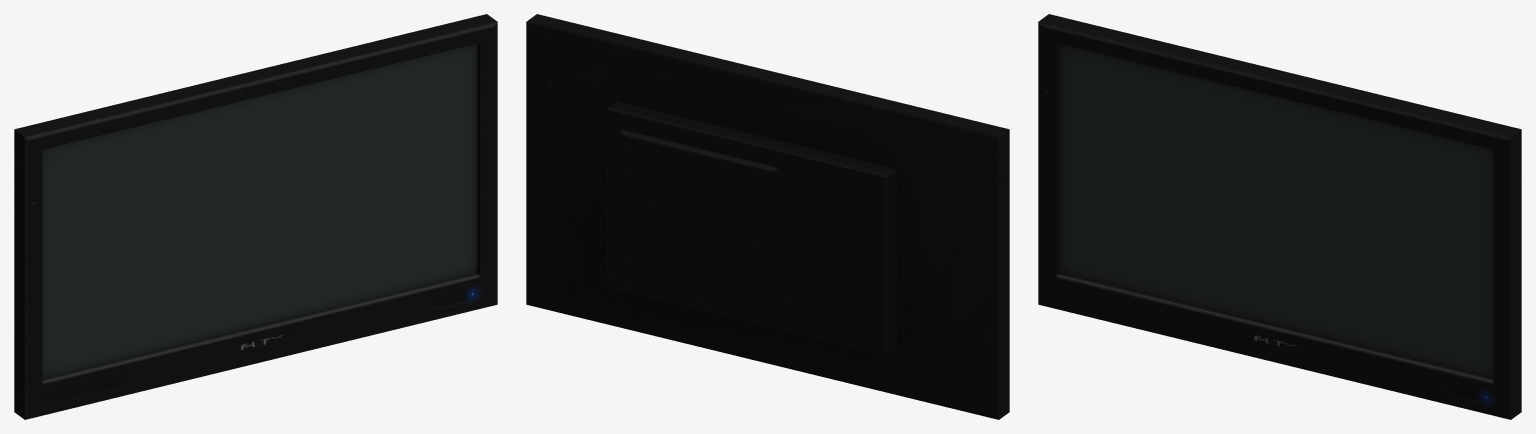
The model's file is Sun_0060_Wall_mounted_TV.fbx.
3 renders of one model, left to right at view 1: azimuth 30°, elevation 25°; view 2: azimuth 150°, elevation 25°; view 3: azimuth 330°, elevation 25°, orthographic.
Visible parts, largest first — view 1: Sun_0060_Wall_mounted_TV; view 2: Sun_0060_Wall_mounted_TV; view 3: Sun_0060_Wall_mounted_TV.
Boxes of the visible parts, left/top/right/bottom form: Sun_0060_Wall_mounted_TV: left=14, top=14, right=497, bottom=419; Sun_0060_Wall_mounted_TV: left=526, top=14, right=1009, bottom=419; Sun_0060_Wall_mounted_TV: left=1038, top=14, right=1521, bottom=419.
Bounding box in the file's own units: 120 × 68.68 × 11.85.
